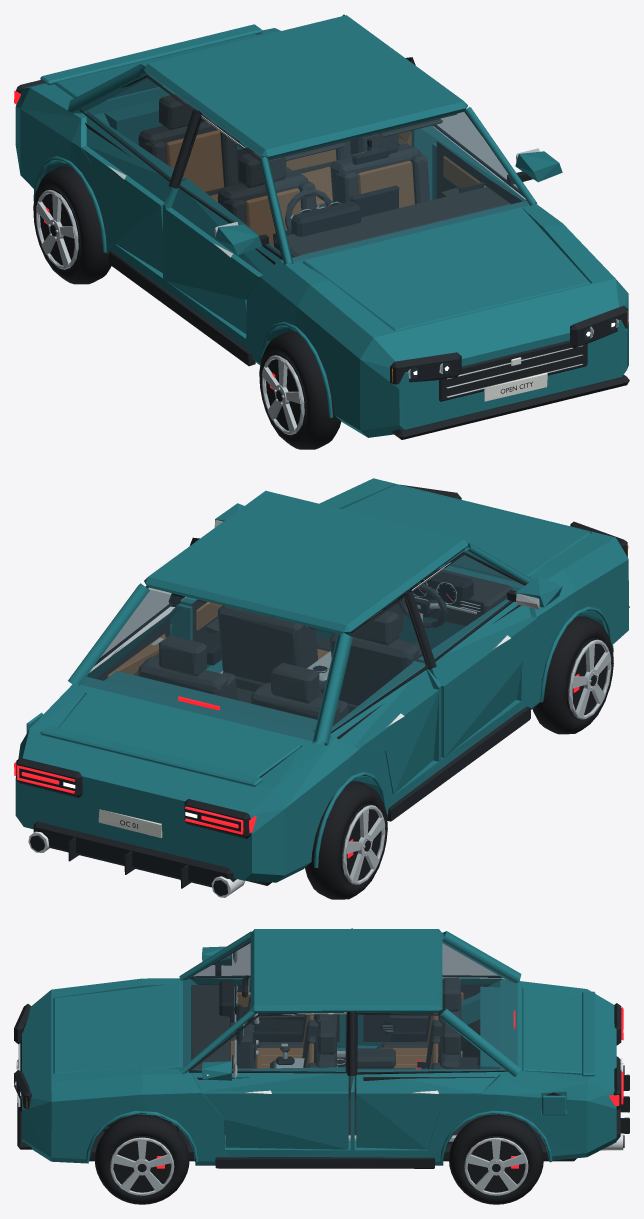
File: oc_sedan_01.glb
The picture shows the model from 3 angles, top to bottom: view 1: azimuth 30°, elevation 25°; view 2: azimuth 150°, elevation 25°; view 3: azimuth 270°, elevation 25°; orthographic projection. The views are drawn at different scales.
Visible parts, largest first — view 1: OC_Sedan_01_RenderMesh, Hood_RenderMesh, Door_FL_RenderMesh, Door_RL_RenderMesh, Wheel_FL_RenderMesh, Wheel_RL_RenderMesh, Door_FR_RenderMesh, Trunk_RenderMesh; view 2: OC_Sedan_01_RenderMesh, Door_FL_RenderMesh, Door_RL_RenderMesh, Trunk_RenderMesh, Hood_RenderMesh, Wheel_RL_RenderMesh, Wheel_FL_RenderMesh, Door_RR_RenderMesh, Door_FR_RenderMesh; view 3: OC_Sedan_01_RenderMesh, Door_FR_RenderMesh, Door_RR_RenderMesh, Hood_RenderMesh, Wheel_RR_RenderMesh, Wheel_FR_RenderMesh, Trunk_RenderMesh, Door_RL_RenderMesh, Door_FL_RenderMesh, Fuel_Flap_RenderMesh, Wheel_RL_RenderMesh.
Boxes of the visible parts, left/top/right/bottom form: OC_Sedan_01_RenderMesh: left=14, top=14, right=629, bottom=439; Hood_RenderMesh: left=303, top=207, right=590, bottom=330; Door_FL_RenderMesh: left=165, top=115, right=282, bottom=333; Door_RL_RenderMesh: left=79, top=74, right=193, bottom=272; Wheel_FL_RenderMesh: left=259, top=331, right=341, bottom=449; Wheel_RL_RenderMesh: left=33, top=166, right=111, bottom=284; Door_FR_RenderMesh: left=420, top=111, right=562, bottom=204; Trunk_RenderMesh: left=40, top=24, right=262, bottom=101; OC_Sedan_01_RenderMesh: left=14, top=478, right=629, bottom=897; Door_FL_RenderMesh: left=411, top=552, right=562, bottom=757; Door_RL_RenderMesh: left=330, top=595, right=439, bottom=794; Trunk_RenderMesh: left=40, top=693, right=300, bottom=786; Hood_RenderMesh: left=342, top=485, right=590, bottom=579; Wheel_RL_RenderMesh: left=305, top=781, right=387, bottom=899; Wheel_FL_RenderMesh: left=532, top=616, right=613, bottom=734; Door_RR_RenderMesh: left=86, top=585, right=179, bottom=680; Door_FR_RenderMesh: left=180, top=503, right=243, bottom=668; OC_Sedan_01_RenderMesh: left=14, top=928, right=629, bottom=1168; Door_FR_RenderMesh: left=188, top=1012, right=348, bottom=1149; Door_RR_RenderMesh: left=356, top=1013, right=507, bottom=1149; Hood_RenderMesh: left=53, top=983, right=180, bottom=1073; Wheel_RR_RenderMesh: left=449, top=1114, right=543, bottom=1204; Wheel_FR_RenderMesh: left=94, top=1114, right=189, bottom=1204; Trunk_RenderMesh: left=522, top=988, right=595, bottom=1076; Door_RL_RenderMesh: left=357, top=944, right=502, bottom=1046; Door_FL_RenderMesh: left=190, top=940, right=345, bottom=1047; Fuel_Flap_RenderMesh: left=542, top=1095, right=565, bottom=1115; Wheel_RL_RenderMesh: left=461, top=1019, right=480, bottom=1065.
Size of the model in its own units: 2.23 by 1.52 by 4.61.
